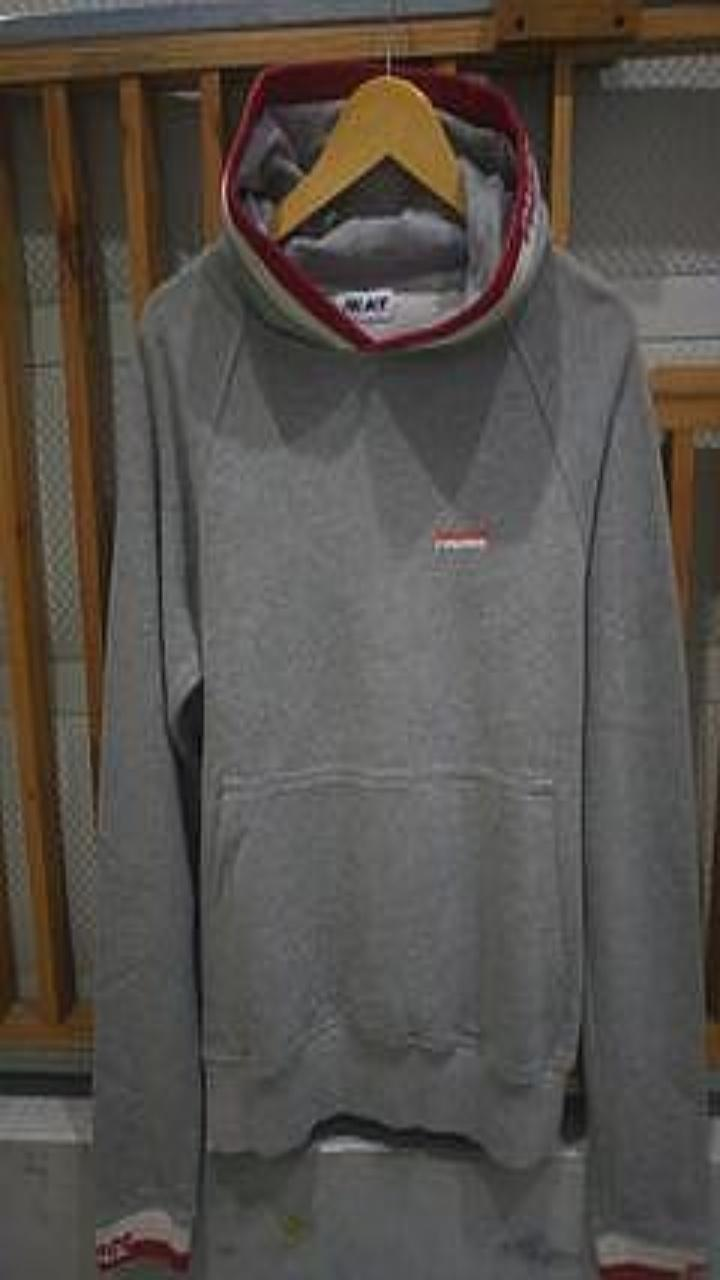Hoodie: (95, 64, 707, 1279)
